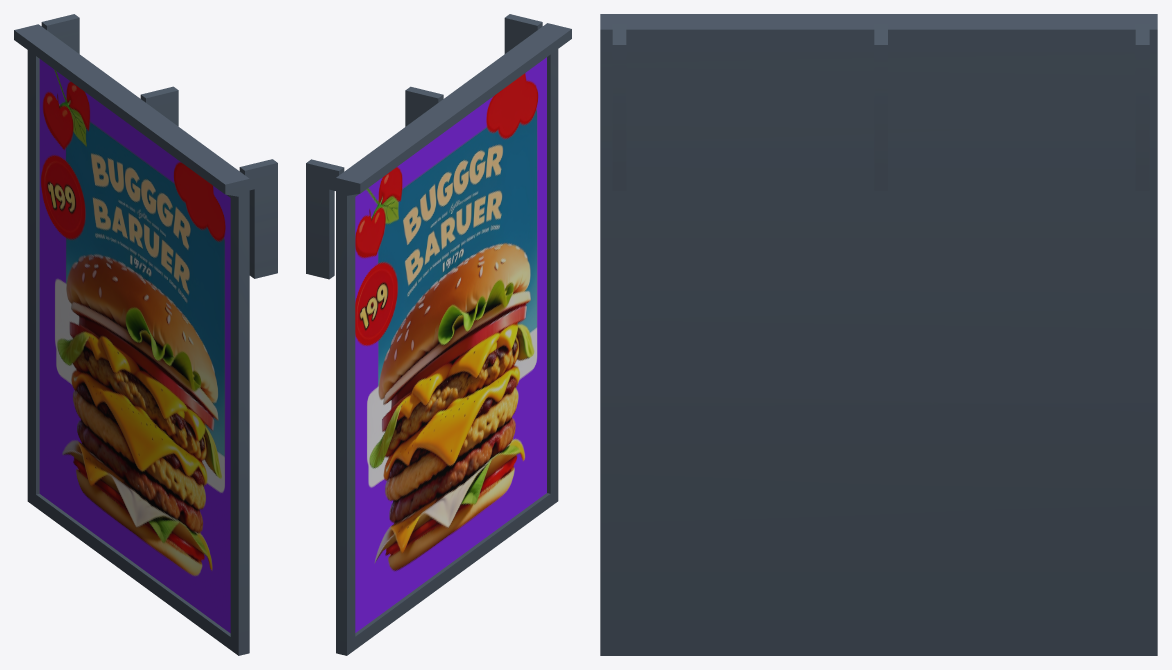
The model's file is SignProp_2_A_4.fbx.
3 renders of one model, left to right at view 1: azimuth 30°, elevation 25°; view 2: azimuth 150°, elevation 25°; view 3: azimuth 270°, elevation 25°, orthographic. The views are drawn at different scales.
Visible parts, largest first — view 1: SignProp_2_A_4; view 2: SignProp_2_A_4; view 3: SignProp_2_A_4.
Part boxes in pixels (left/top/right/bottom): SignProp_2_A_4: left=14, top=14, right=277, bottom=655; SignProp_2_A_4: left=306, top=14, right=571, bottom=655; SignProp_2_A_4: left=600, top=14, right=1157, bottom=655.
Size of the model in its own units: 14.49 by 116 by 92.55.
